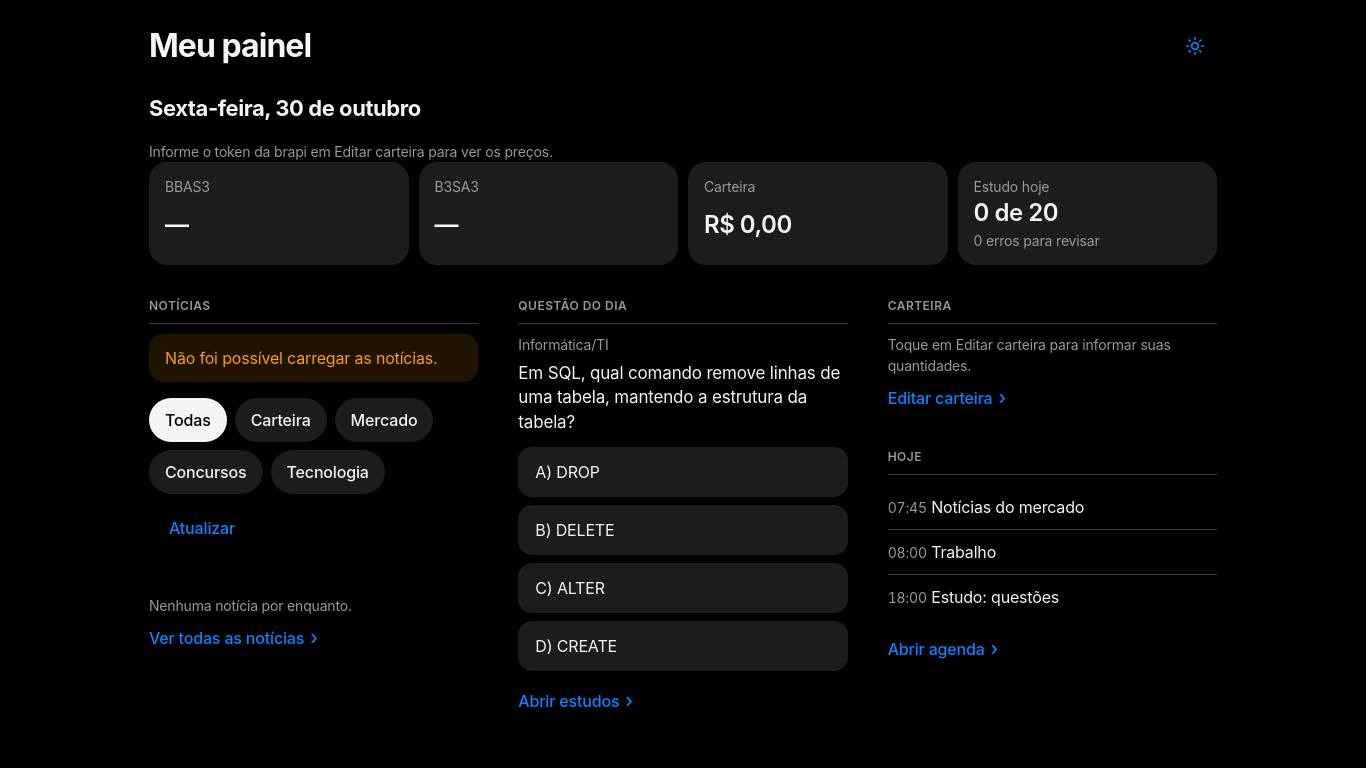
Test case: navegar para Notícias mostra os filtros de tema
Click the link "Ver todas as notícias" at (227, 638), box [149, 628, 304, 648]
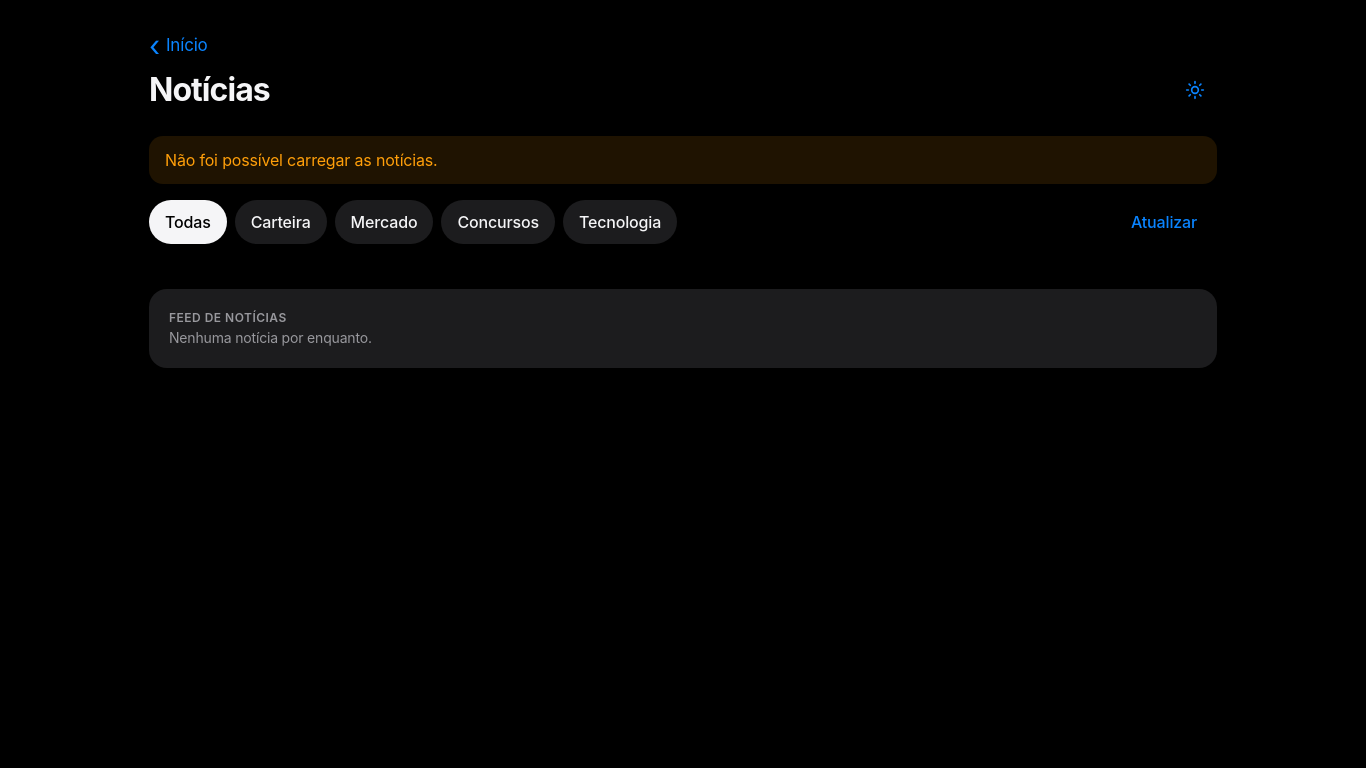
Expected: the button "Concursos" is shown, [441, 200, 555, 244]
Result: the heading "Notícias" is shown at [149, 72, 270, 108]
